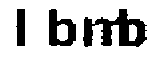b: (44, 4, 78, 52), (117, 3, 147, 50)
l: (10, 4, 36, 51)
m: (80, 15, 125, 50)
